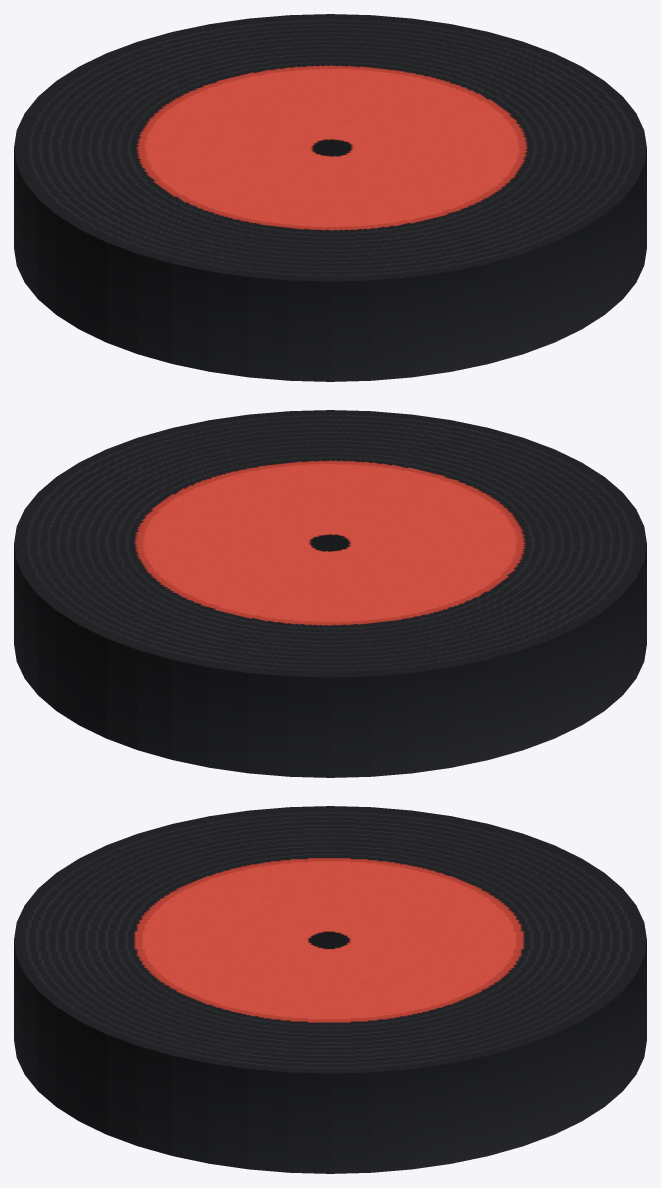
File: vinyl.glb
3 views of the same model, one above another, from view 1: azimuth 30°, elevation 25°; view 2: azimuth 150°, elevation 25°; view 3: azimuth 270°, elevation 25° (orthographic).
Parts seen in each view (by area): view 1: vinyl; view 2: vinyl; view 3: vinyl.
Boxes of the visible parts, left/top/right/bottom form: vinyl: left=14, top=14, right=646, bottom=381; vinyl: left=14, top=410, right=646, bottom=777; vinyl: left=14, top=806, right=646, bottom=1173.
Bounding box in the file's own units: 2 × 0.35 × 2.
2 materials, 2 textured.
